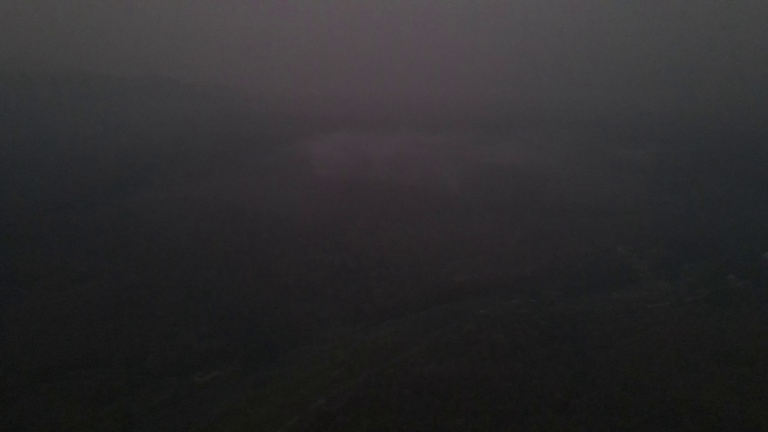smoke: (299, 132, 534, 185)
